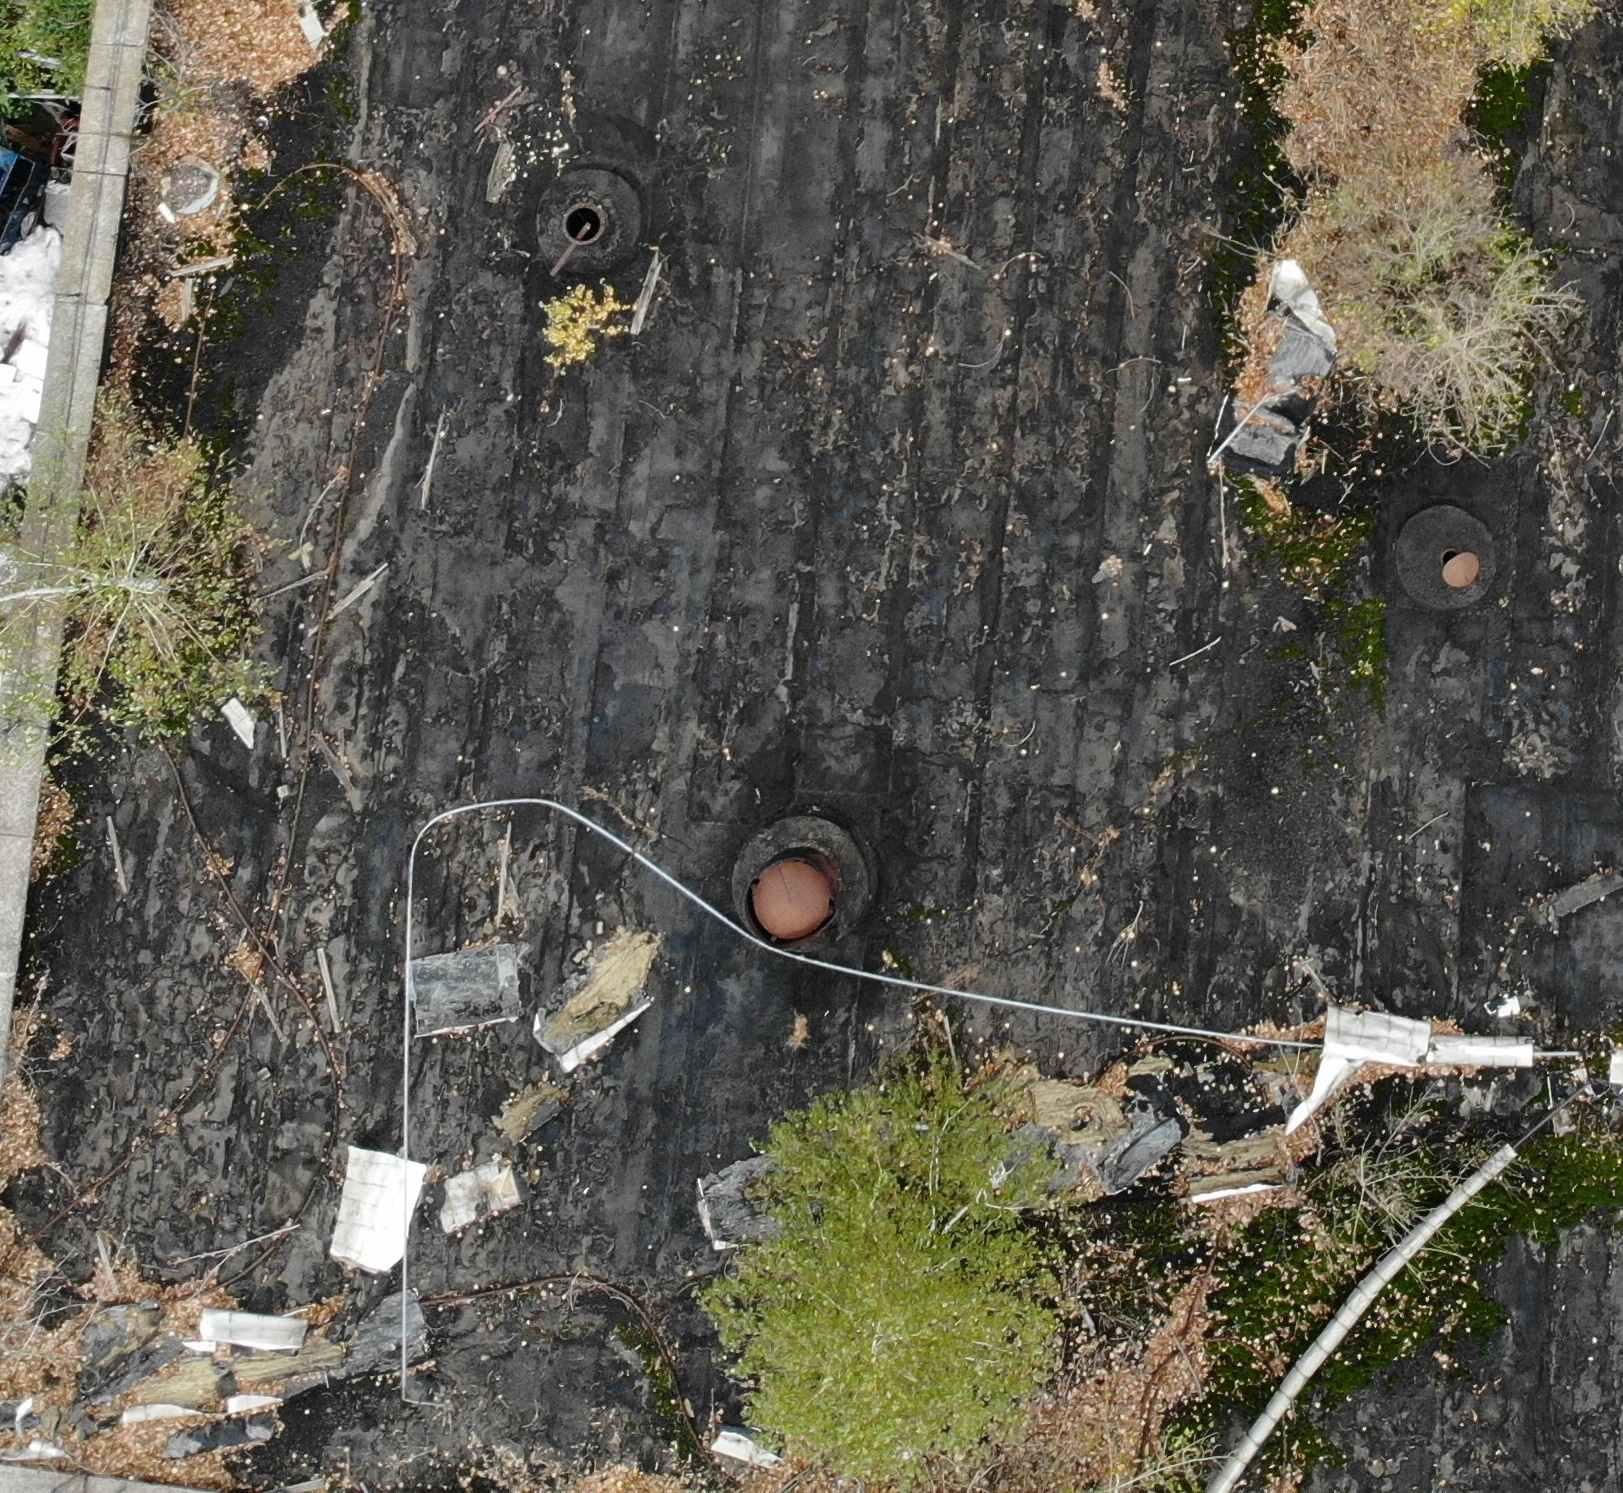tree: (714, 1007, 1104, 1477), (17, 399, 312, 749), (1241, 7, 1523, 329), (1323, 161, 1588, 467), (1250, 997, 1511, 1304), (522, 253, 657, 397)
